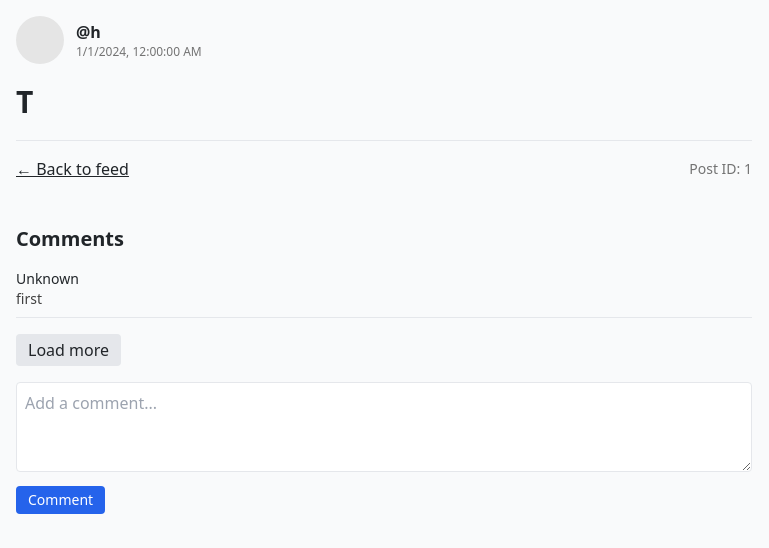
Test case: PostDetailPage SEO and pagination › inserts canonical/ld+json and loads more comments
This screenshot has width=769, height=548.
Check: the text "first" is shown, box x1=16 y1=289 x2=42 y2=308
Click the button "Load more" at (68, 350), box x1=16 y1=334 x2=121 y2=366
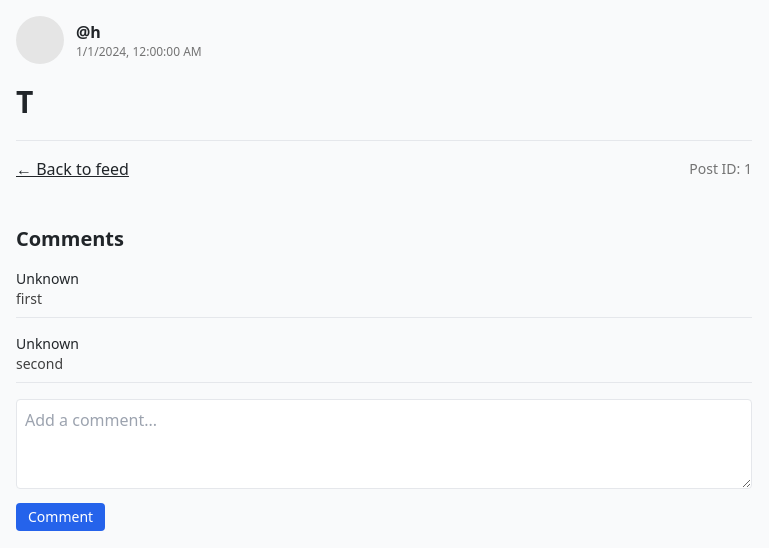
Check: the text "second" is shown, box x1=16 y1=354 x2=63 y2=373
Check: the button "Load more" is gone
